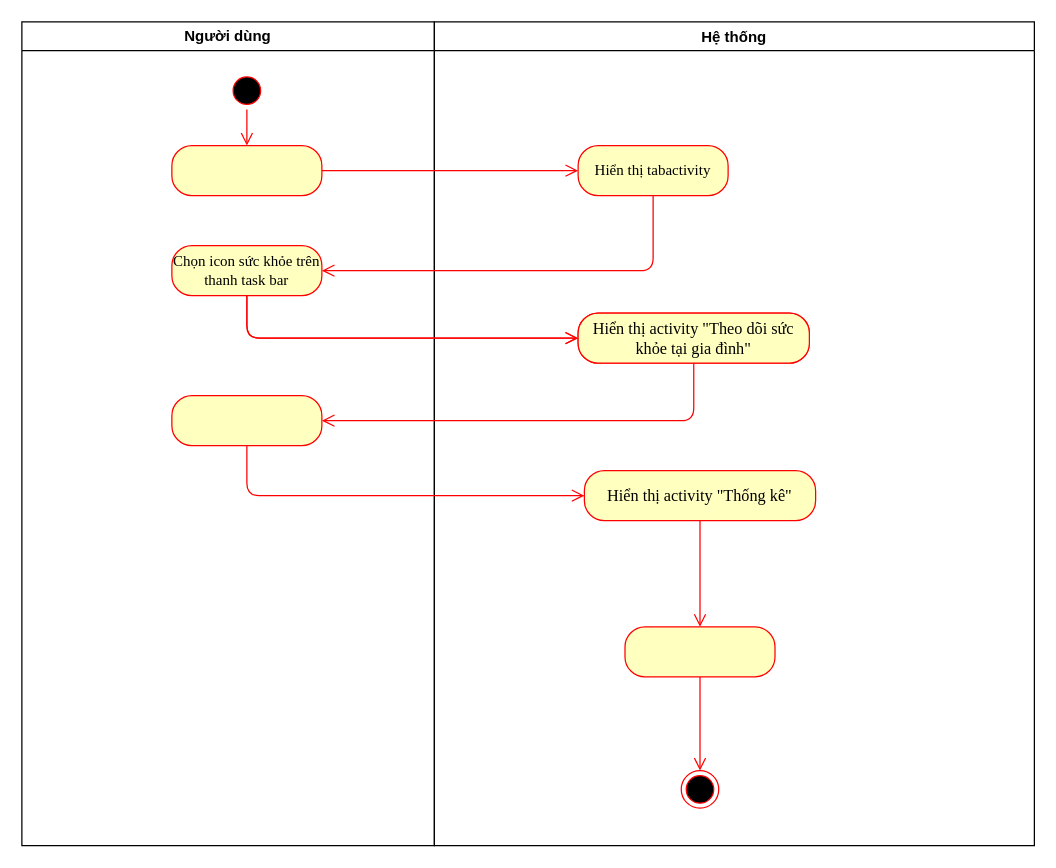
Some shapes in this 1056 by 868 pixel diagram are drawn without their labels. The centre of each missing label's shape, as x and y in pixels:
Chọn "Trẻ em": point (246, 170)
Chọn icon thống kê sức khỏe trên thanh task bar: point (246, 420)
Hiển thị biểu đồ thống kê: point (699, 651)
